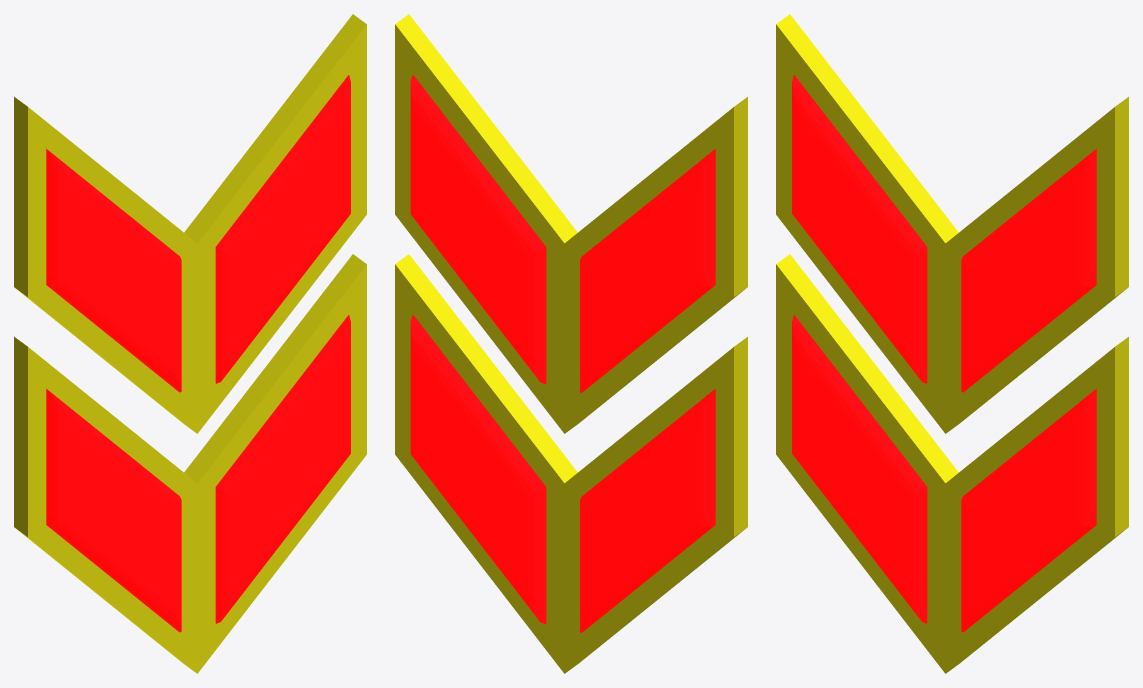
The model's file is track1Trap.glb.
The picture shows the model from 3 angles, left to right: view 1: azimuth 30°, elevation 25°; view 2: azimuth 150°, elevation 25°; view 3: azimuth 330°, elevation 25°; orthographic projection.
Visible parts, largest first — view 1: Speed Slow; view 2: Speed Slow; view 3: Speed Slow.
Boxes of the visible parts, box(x1,y1,x2,y2) form: Speed Slow: box(14, 14, 366, 673); Speed Slow: box(395, 14, 747, 673); Speed Slow: box(776, 14, 1128, 673).
Bounding box in the file's own units: 0.2554 × 0.4383 × 0.0369.
